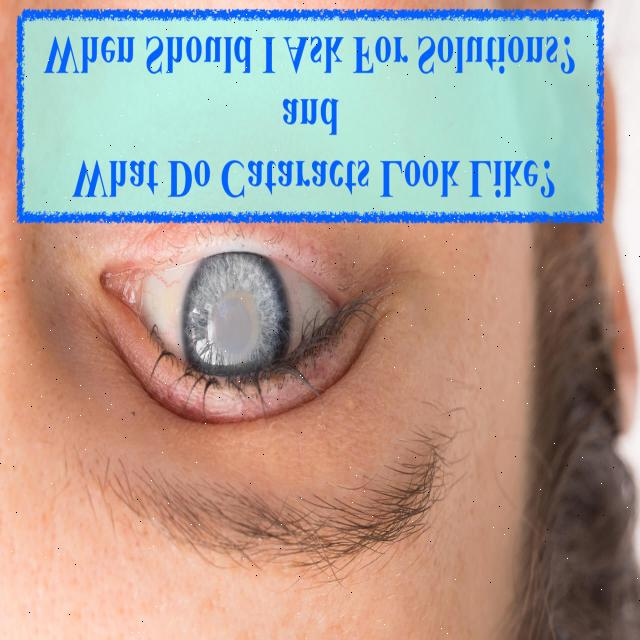Cataract: (180, 252, 288, 406)
